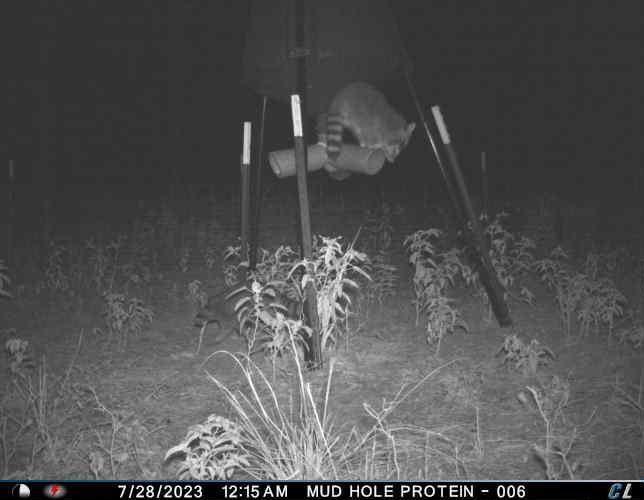Raccoon: (322, 75, 418, 163)
